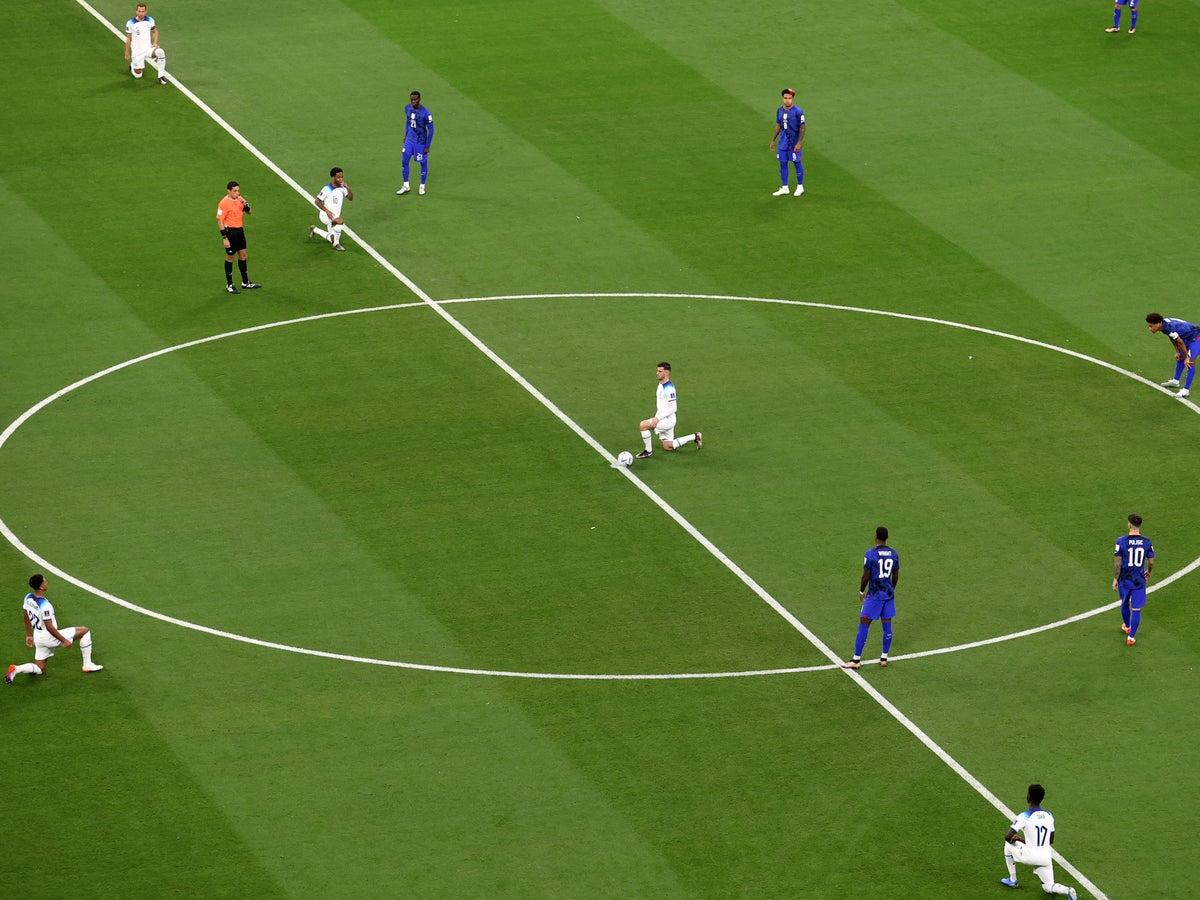ballon_football: (617, 450, 634, 469)
